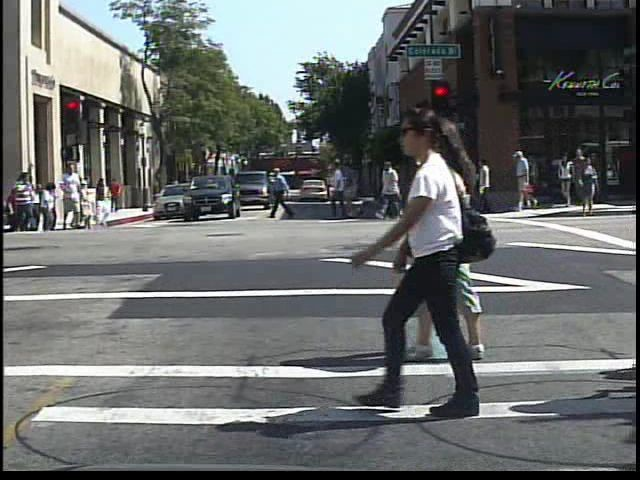person: (344, 108, 505, 420), (404, 117, 500, 361), (57, 161, 88, 232), (11, 164, 36, 235), (513, 144, 537, 211), (108, 177, 126, 214), (166, 172, 185, 205)
